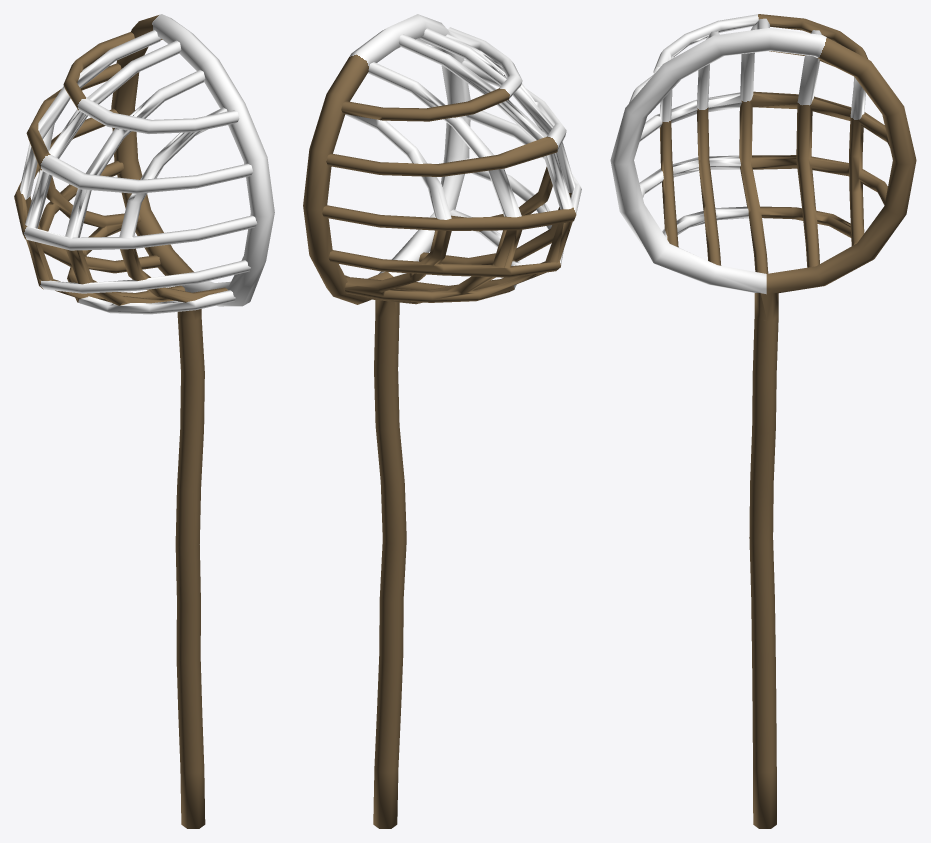
File: Sachok2.fbx
3 views of the same model, side by side, from view 1: azimuth 30°, elevation 25°; view 2: azimuth 150°, elevation 25°; view 3: azimuth 270°, elevation 25° (orthographic).
Visible parts, largest first — view 1: Circle.002, Circle.001; view 2: Circle.002, Circle.001; view 3: Circle.001, Circle.002.
Part boxes in pixels (<box>): Circle.002: <box>14,30,257,314</box>; Circle.001: <box>111,14,274,828</box>; Circle.002: <box>322,27,581,304</box>; Circle.001: <box>303,14,470,828</box>; Circle.001: <box>610,28,916,828</box>; Circle.002: <box>629,14,889,273</box>.
Bounding box in the file's own units: 0.3659 × 1.47 × 0.5138.
